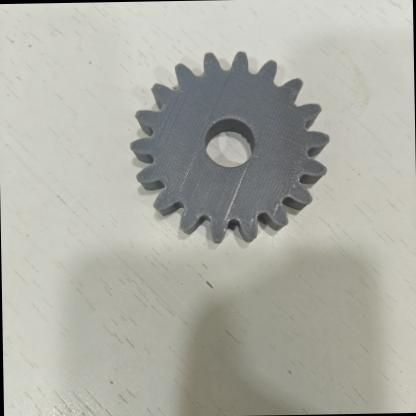gear: (106, 39, 338, 259)
